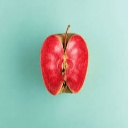apple: (39, 29, 90, 96)
